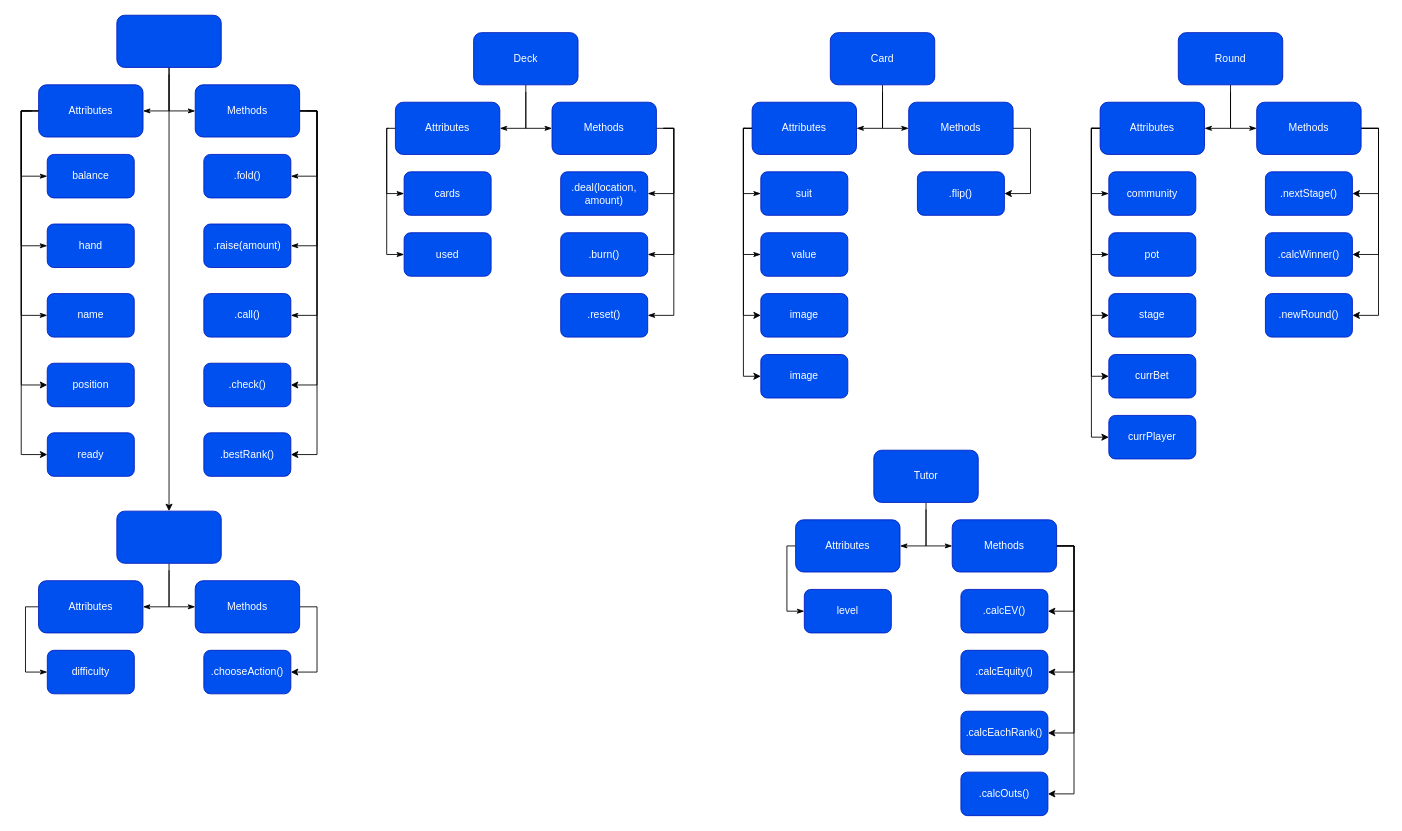
Image size: 1402x831. Some labels were removed from this diagram. Here are the shapes that lost their labels. From the top down, the centre of each, then its label:
At (168,40): "Player".
At (168,536): "AI".
